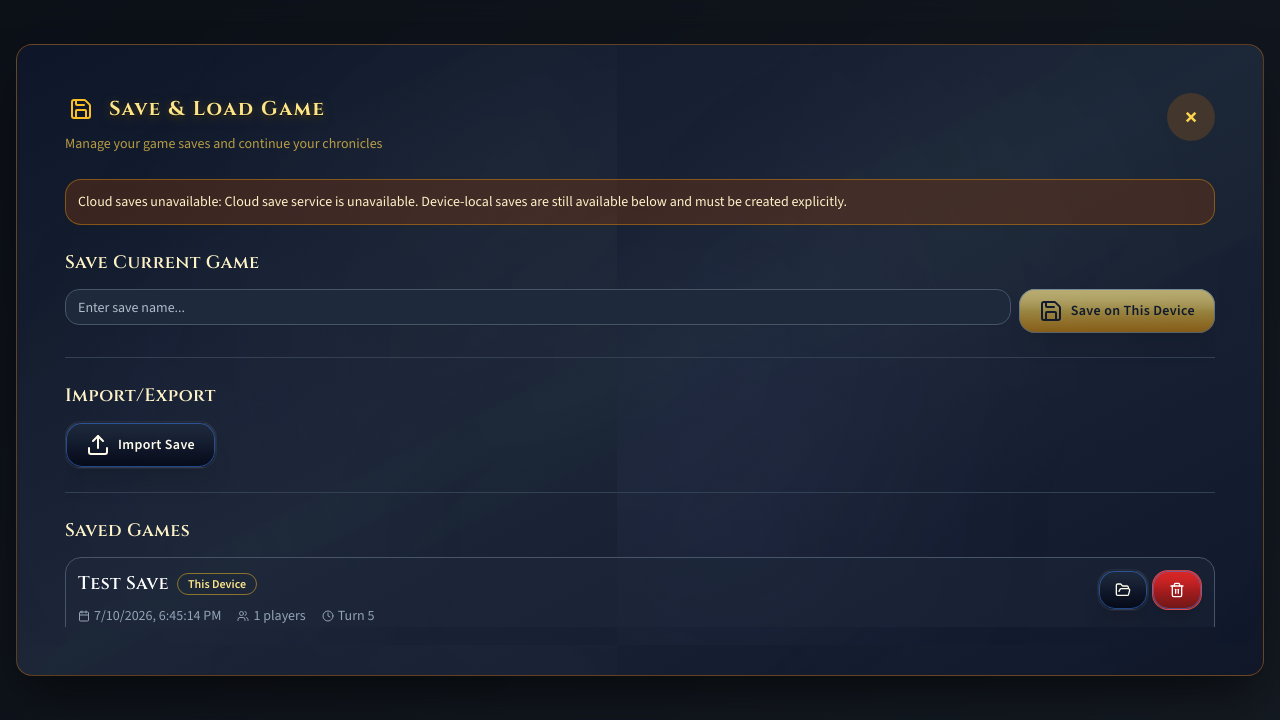
Test: SaveLoadMenu › shows export button only when save is selected
Check: the text "Export Selected" is not shown
Select a save
What coordinates should you click on to do the following:
click the text "Test Save"
I would click on:
 (168, 584)
Its box is [78, 571, 257, 596].
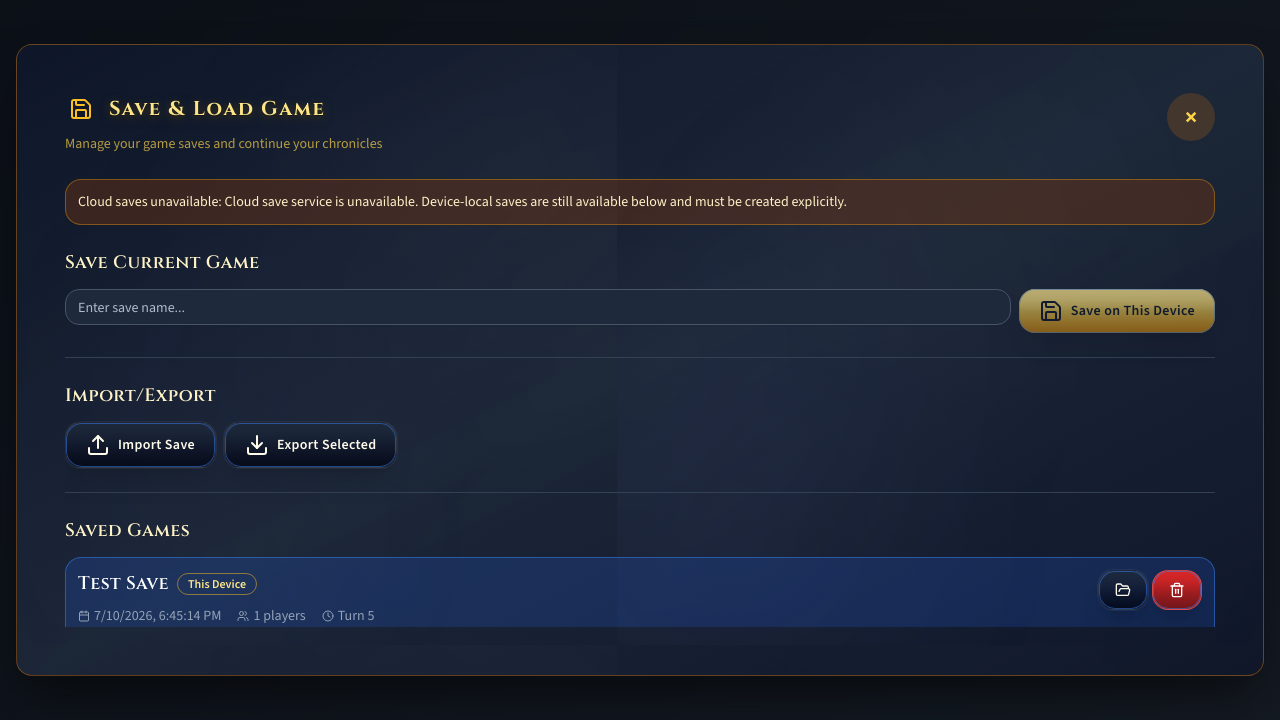
Check: the text "Export Selected" is shown, box [245, 433, 376, 457]
